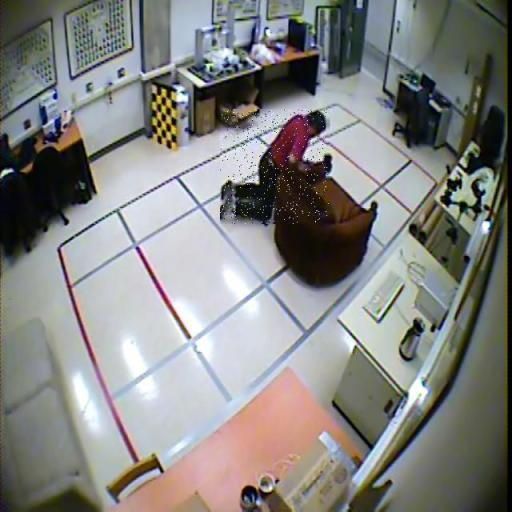Fall: (221, 109, 330, 224)
